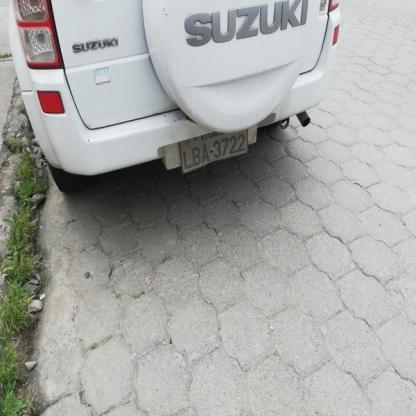Placa: (169, 129, 261, 172)
